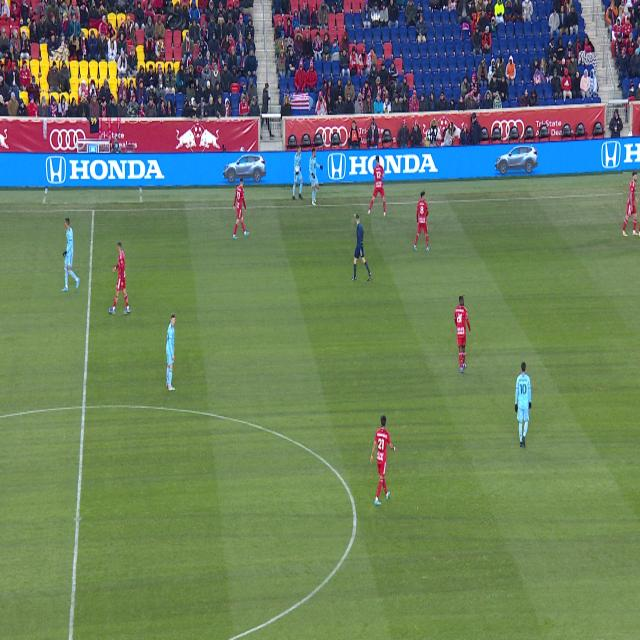player: (370, 415, 396, 506), (109, 242, 130, 313), (515, 362, 531, 448), (62, 219, 80, 292), (454, 296, 471, 373), (367, 156, 386, 217), (233, 178, 249, 240), (624, 173, 639, 237), (414, 191, 429, 252), (309, 148, 323, 206), (166, 313, 175, 391)
referee: (352, 215, 371, 280)
